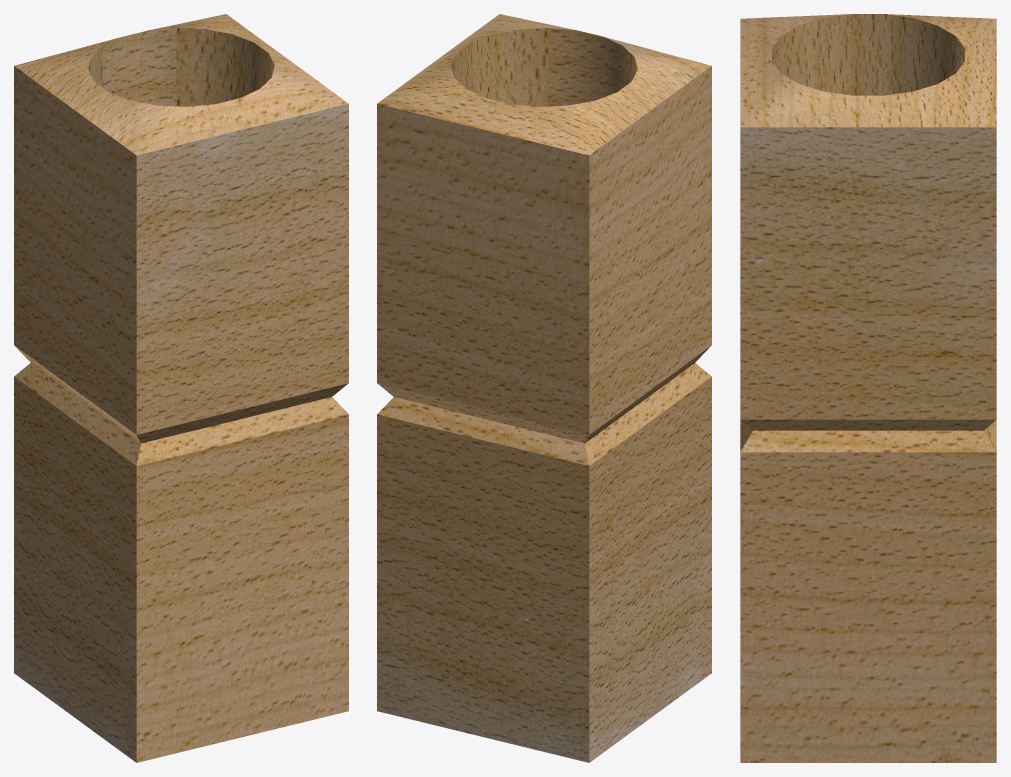
The model's file is Koma_B_Lo_C1.fbx.
3 views of the same model, side by side, from view 1: azimuth 30°, elevation 25°; view 2: azimuth 150°, elevation 25°; view 3: azimuth 270°, elevation 25° (orthographic). The views are drawn at different scales.
Visible parts, largest first — view 1: Koma_B_Lo_C1; view 2: Koma_B_Lo_C1; view 3: Koma_B_Lo_C1.
Boxes of the visible parts, <box> form: Koma_B_Lo_C1: <box>14,14,348,762</box>; Koma_B_Lo_C1: <box>377,14,711,762</box>; Koma_B_Lo_C1: <box>740,14,996,762</box>.
Size of the model in its own units: 1.28 by 3.6 by 1.28.
1 material, 1 textured.
